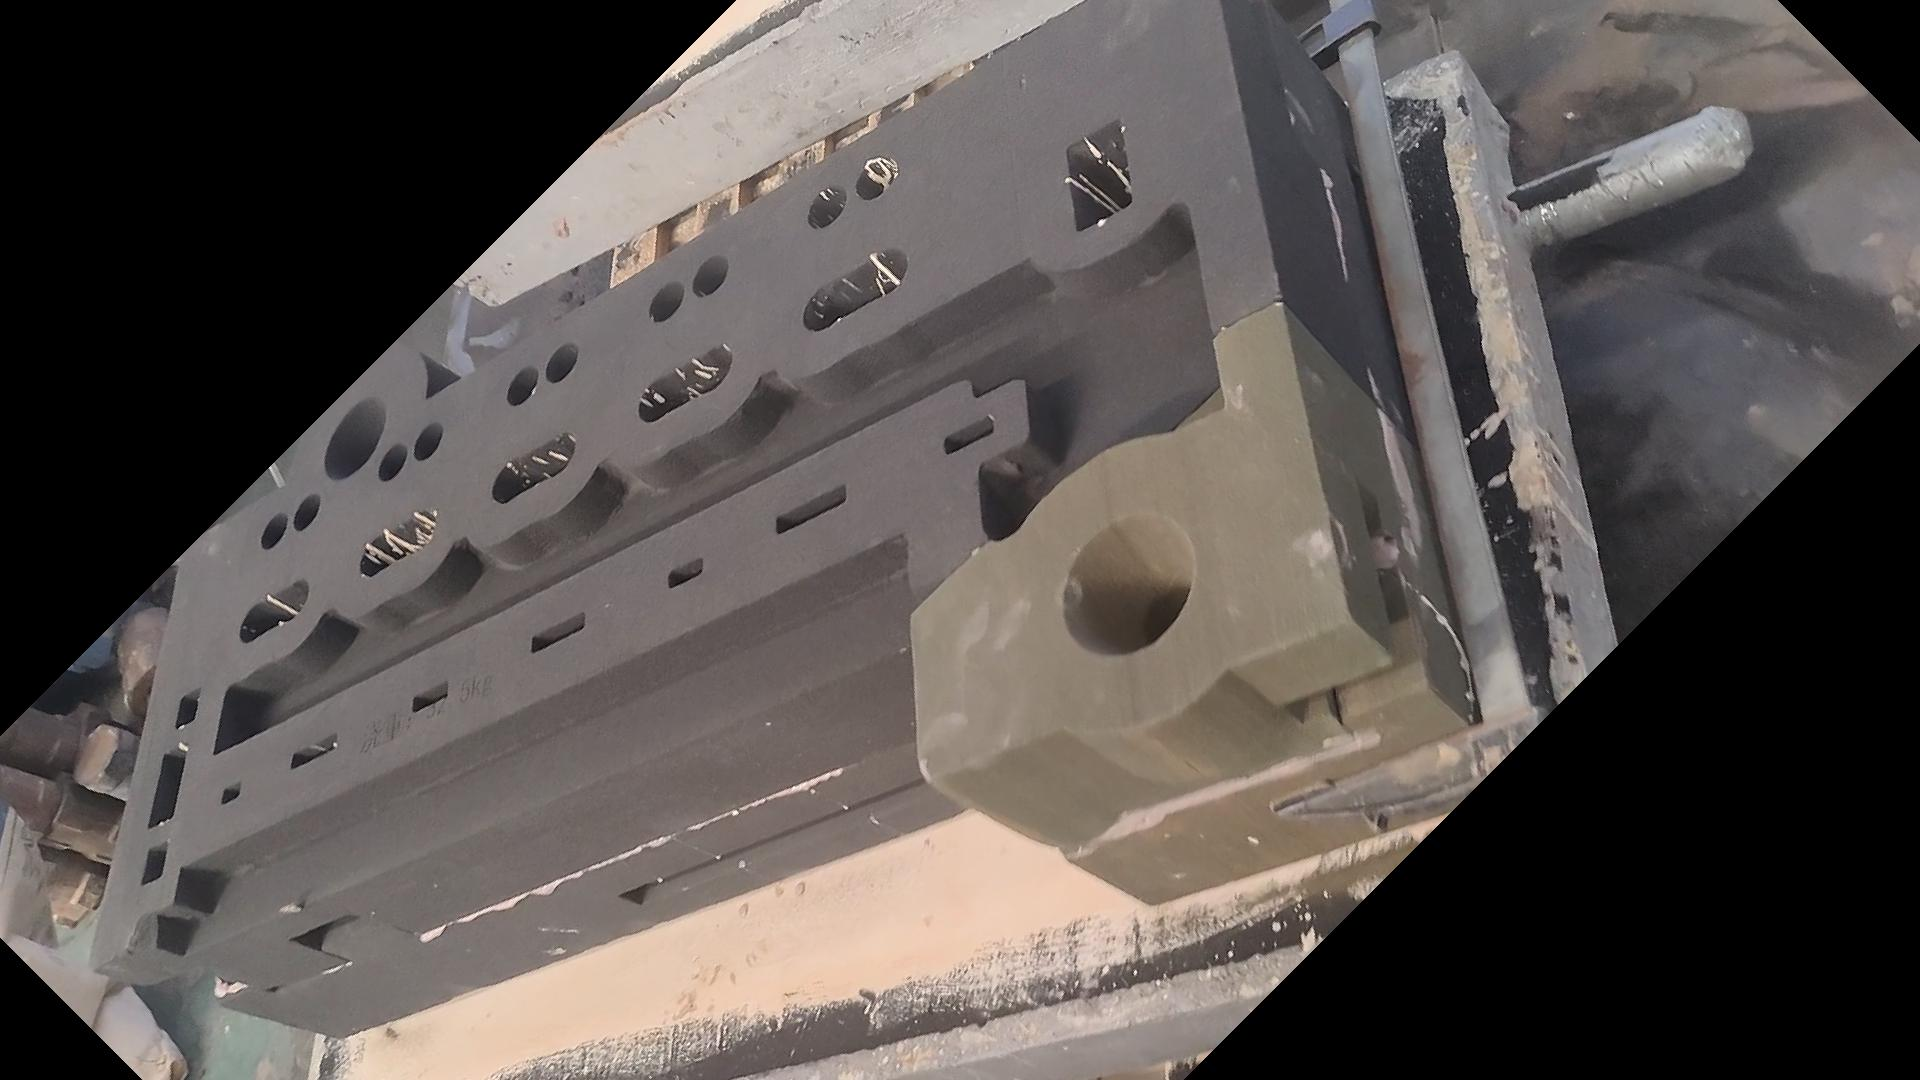pouring hole: (1063, 513, 1196, 655), (324, 397, 389, 480)
